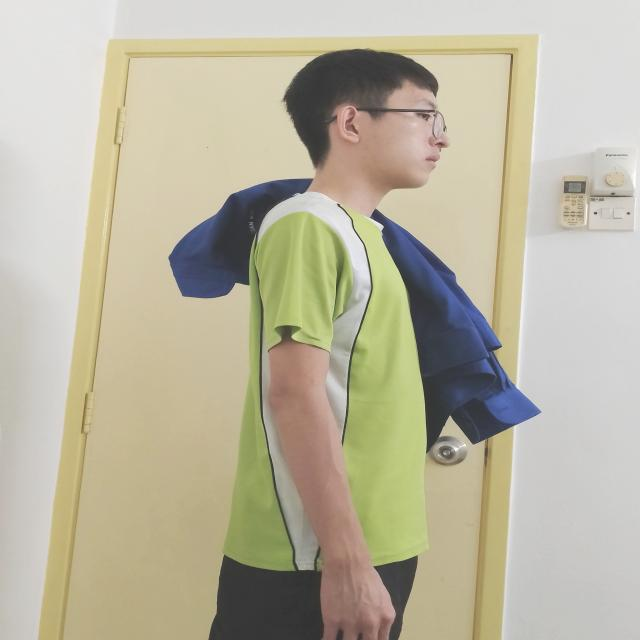person_without_labcoat: (170, 50, 540, 640)
